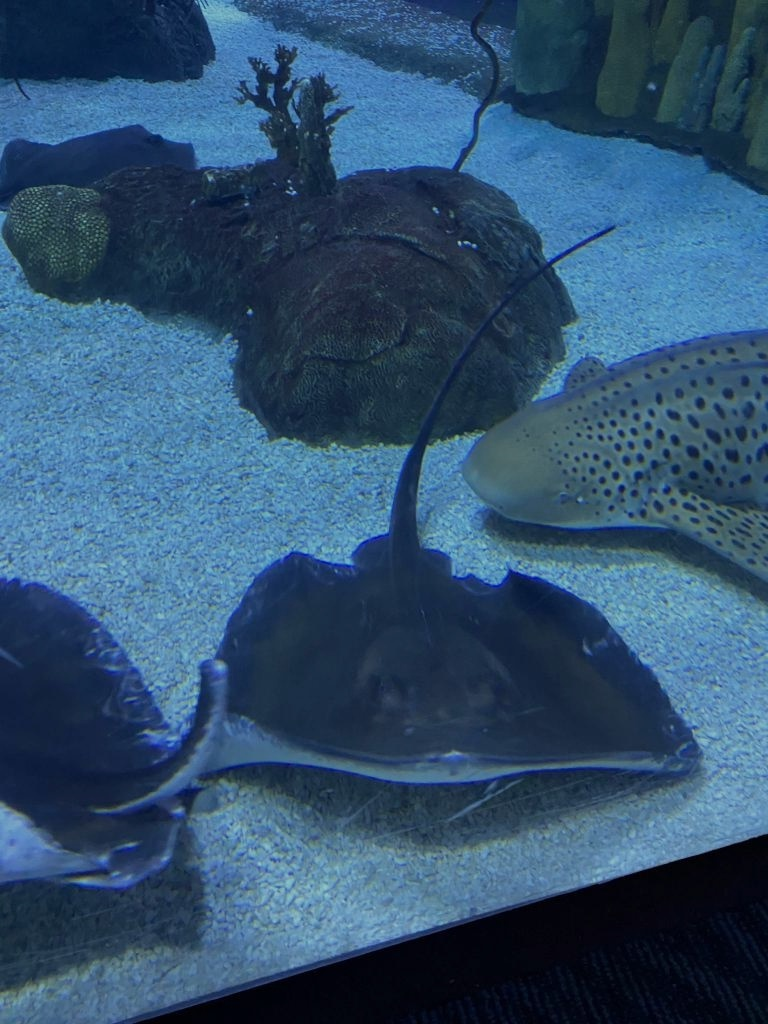shark: (462, 322, 766, 604)
stingray: (215, 534, 702, 788), (1, 578, 183, 894), (0, 124, 195, 212)
